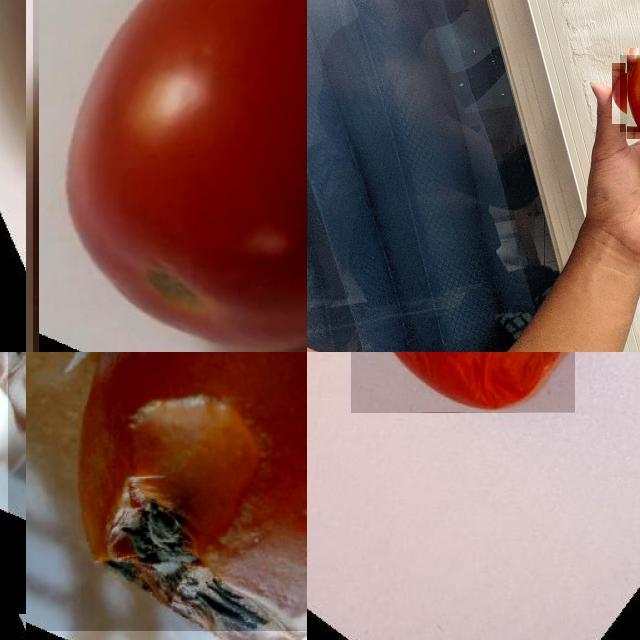Fresh Tomato: (32, 0, 307, 352)
Rotten Tomato: (8, 352, 307, 631), (350, 352, 575, 412), (619, 55, 640, 131)
